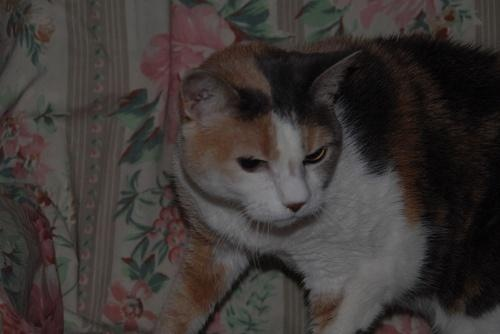cat: (153, 33, 500, 334)
